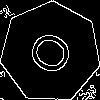O: (25, 27, 84, 83)
